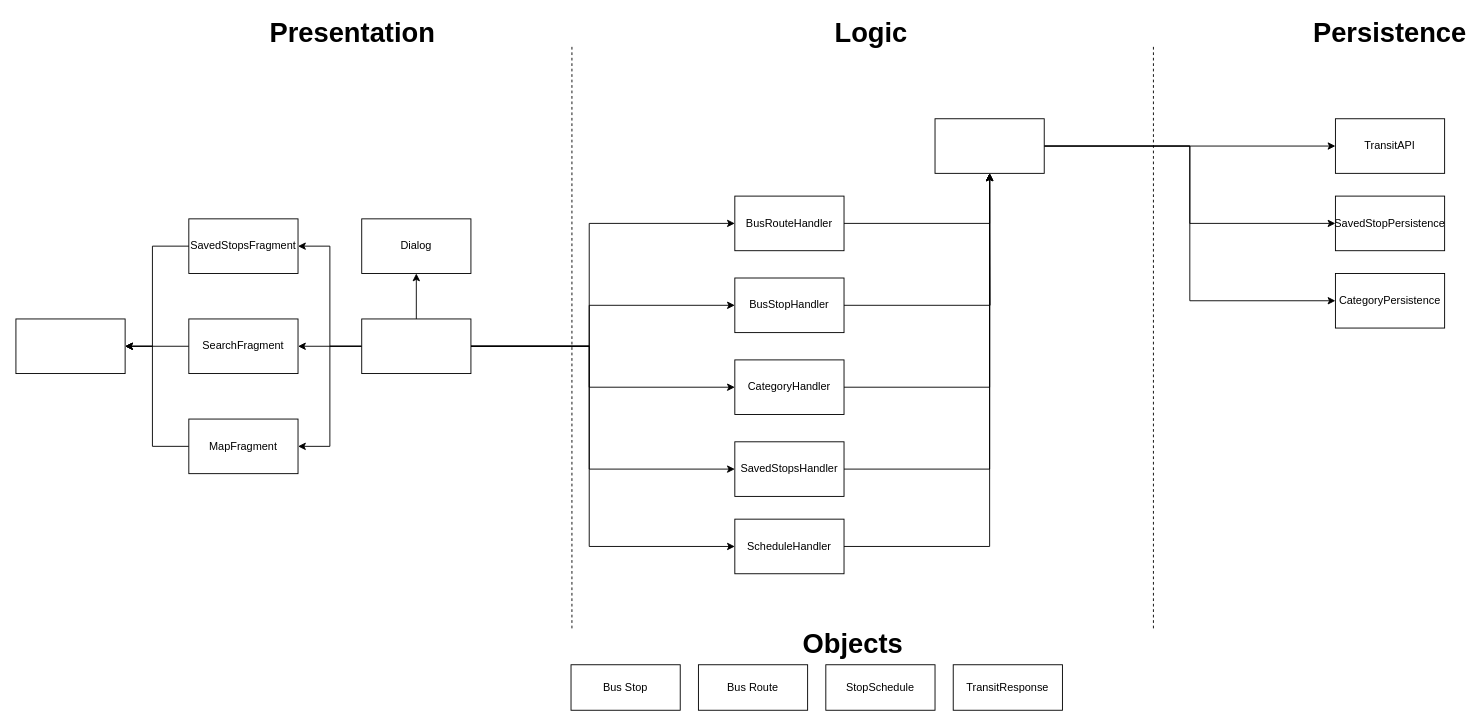
The diagram is 1482 pixels wide and 726 high, and some of its shapes have lost their labels. The shapes that lost their labels are listed below. From the top down, each one's centre as x and y in pixels, then its label:
At point (989, 145): "Services".
At point (70, 346): "ArrivalsFragment".
At point (416, 346): "MainActivity".
